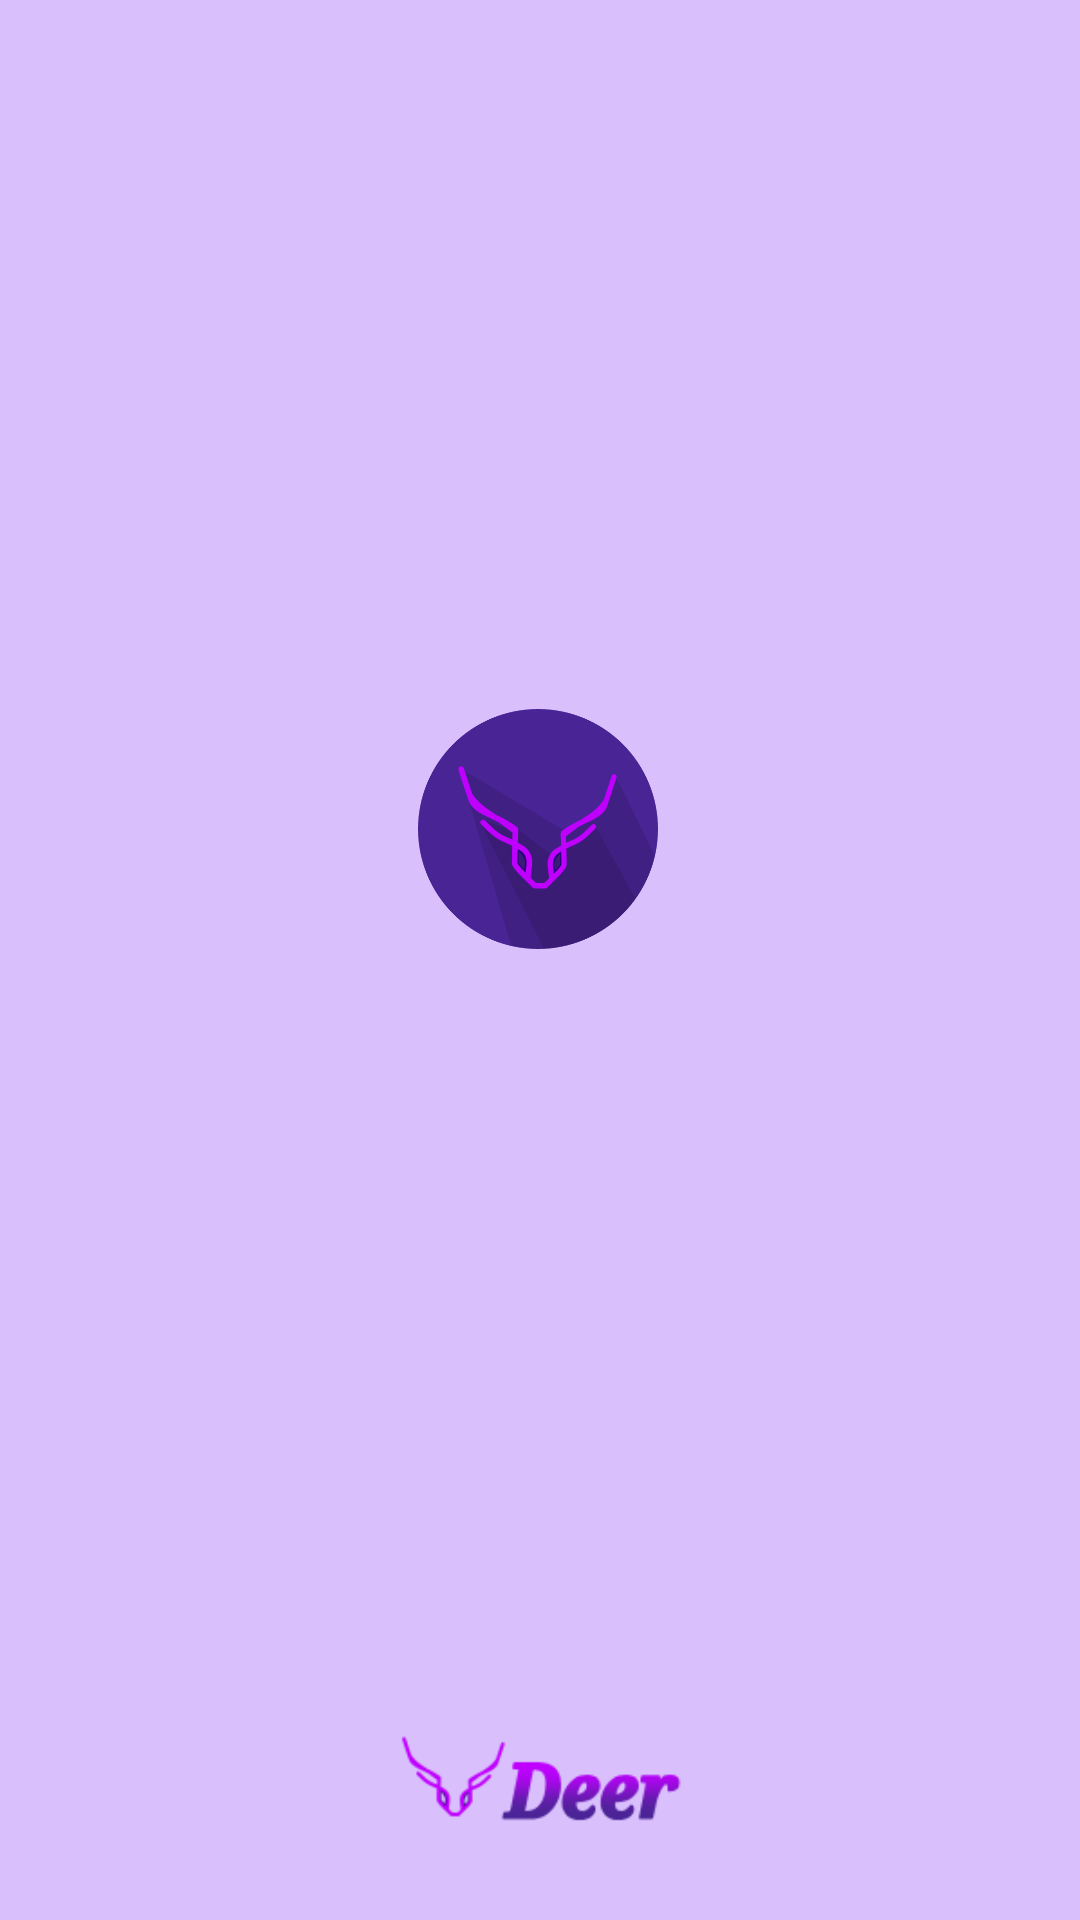

Screen size 1080x1920. Icon name, then its box in pixels as (x1, y1, x2, y2):
deer rounded: (418, 709, 658, 949)
